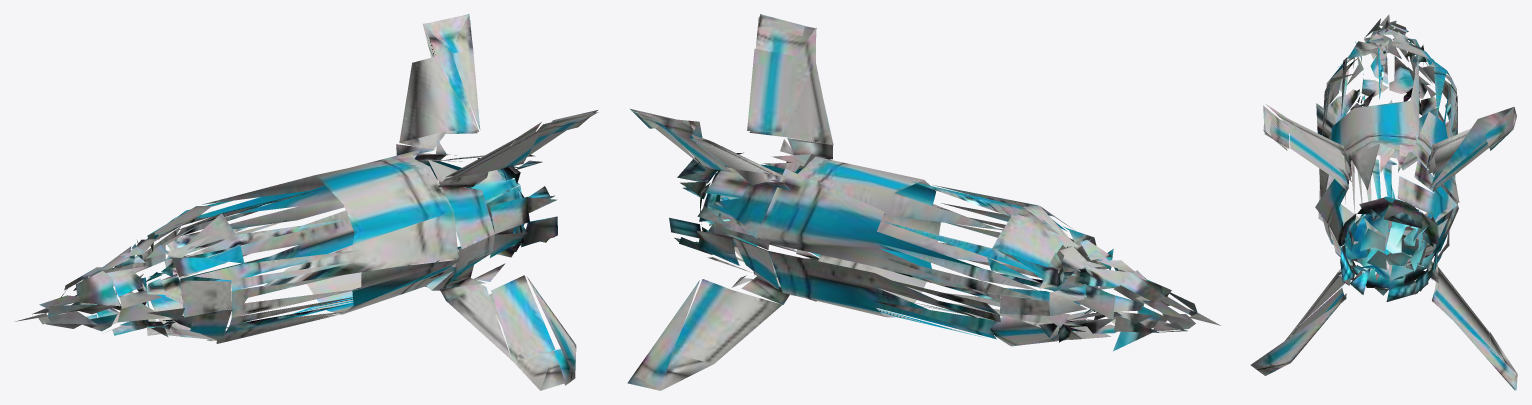
Rendered from swarm_missile.glb.
The picture shows the model from 3 angles, left to right: view 1: azimuth 30°, elevation 25°; view 2: azimuth 150°, elevation 25°; view 3: azimuth 270°, elevation 25°; orthographic projection. The views are drawn at different scales.
Visible parts, largest first — view 1: Mesh_0; view 2: Mesh_0; view 3: Mesh_0.
Boxes of the visible parts, <box> form: Mesh_0: <box>15,14,598,390</box>; Mesh_0: <box>627,14,1221,390</box>; Mesh_0: <box>1250,14,1517,390</box>.
Bounding box in the file's own units: 1 × 0.499 × 0.46.
Materials: 1 (1 with a texture image).
